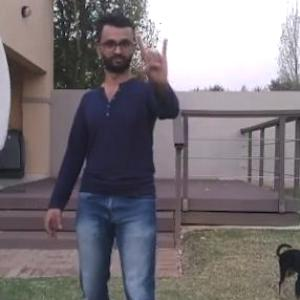takeoff-hand: (134, 29, 175, 86)
